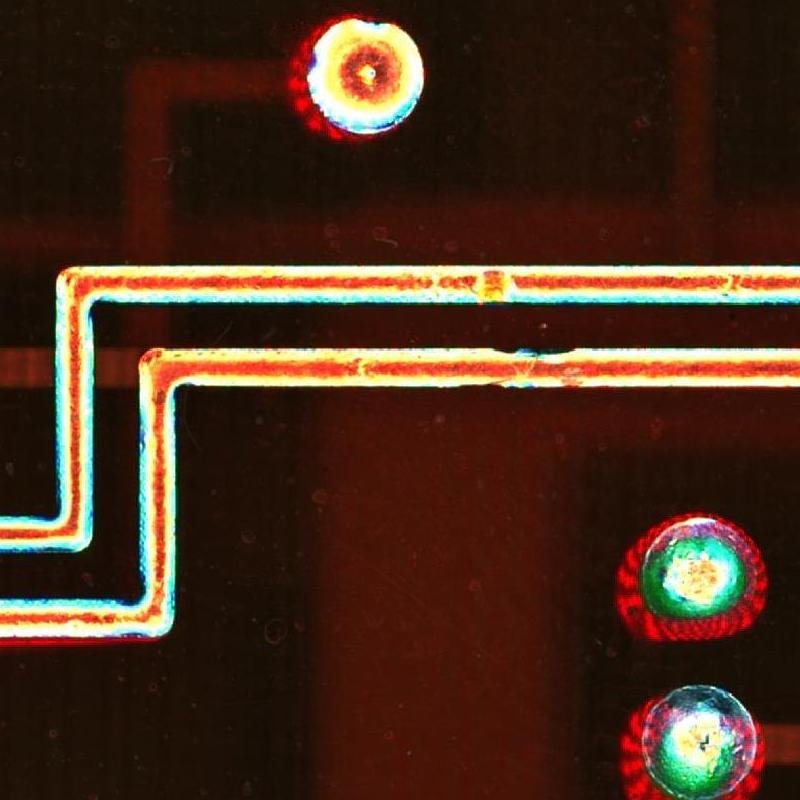bad: (273, 11, 463, 177)
